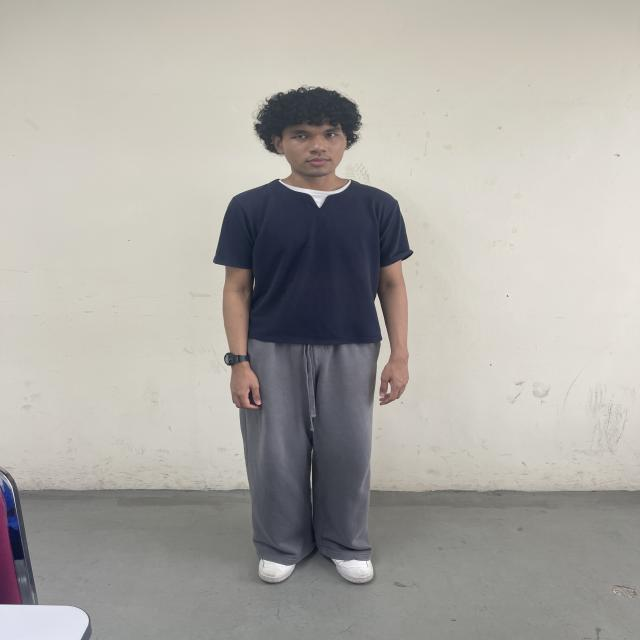person_without_labcoat: (214, 87, 412, 583)
